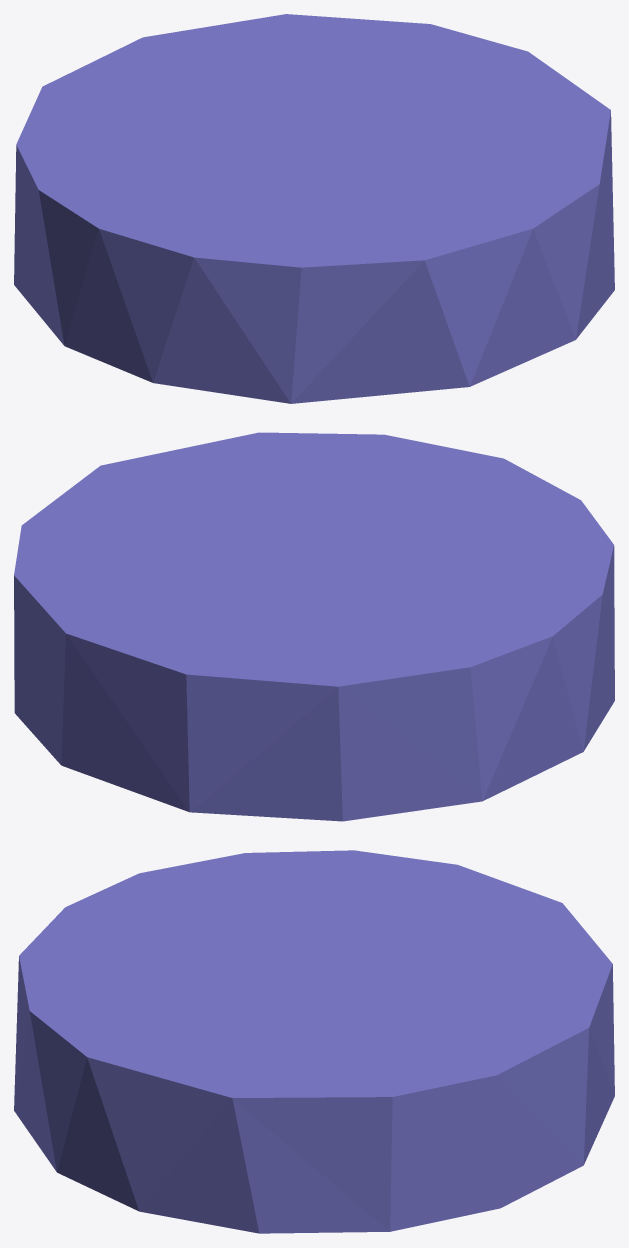
The picture shows the model from 3 angles, top to bottom: view 1: azimuth 30°, elevation 25°; view 2: azimuth 150°, elevation 25°; view 3: azimuth 270°, elevation 25°; orthographic projection.
Visible parts, largest first — view 1: Link0__Base__001; view 2: Link0__Base__001; view 3: Link0__Base__001.
Part boxes in pixels (x1=…): Link0__Base__001: x1=14, y1=14, x2=614, y2=403; Link0__Base__001: x1=14, y1=432, x2=614, y2=821; Link0__Base__001: x1=14, y1=850, x2=614, y2=1233.
Bounding box in the file's own units: 0.4618 × 0.469 × 0.1157.
